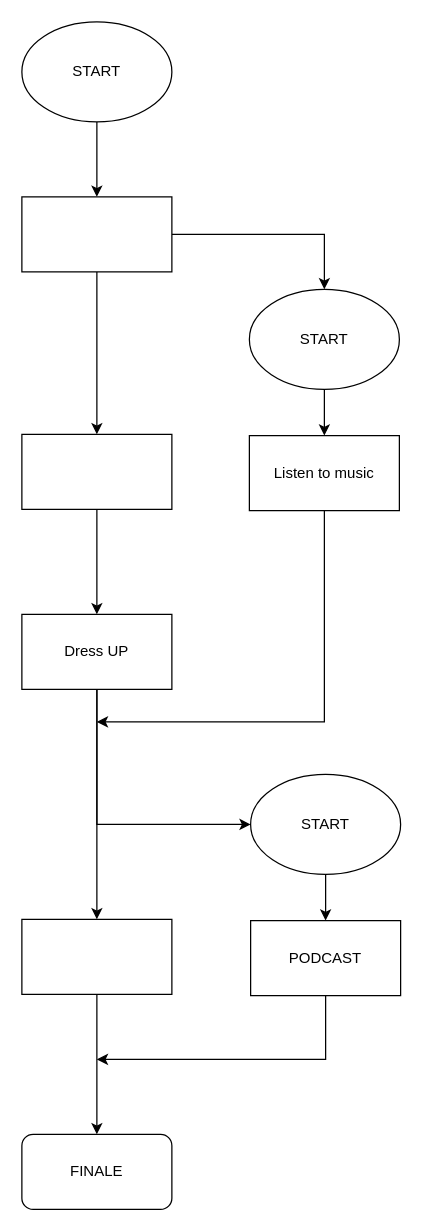
The diagram is 423 pixels wide and 1231 high, and some of its shapes have lost their labels. The shapes that lost their labels are listed below. From the top down, each one's centre as x and y in pixels, then its label:
(96,234): WAKE UP
(96,471): SHOWER
(96,956): BREKFAST
